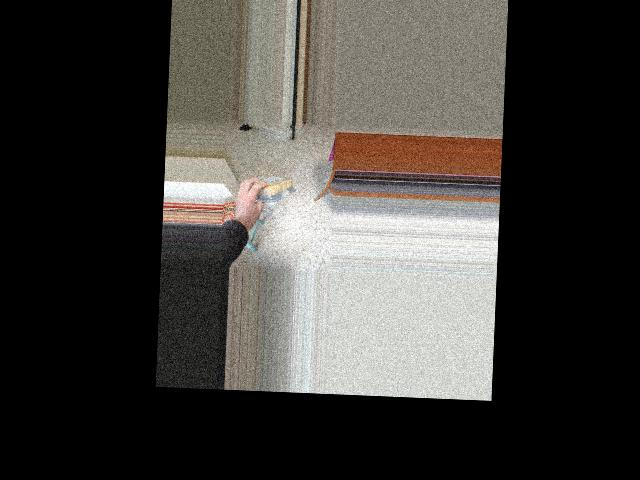cheese: (249, 174, 296, 199)
